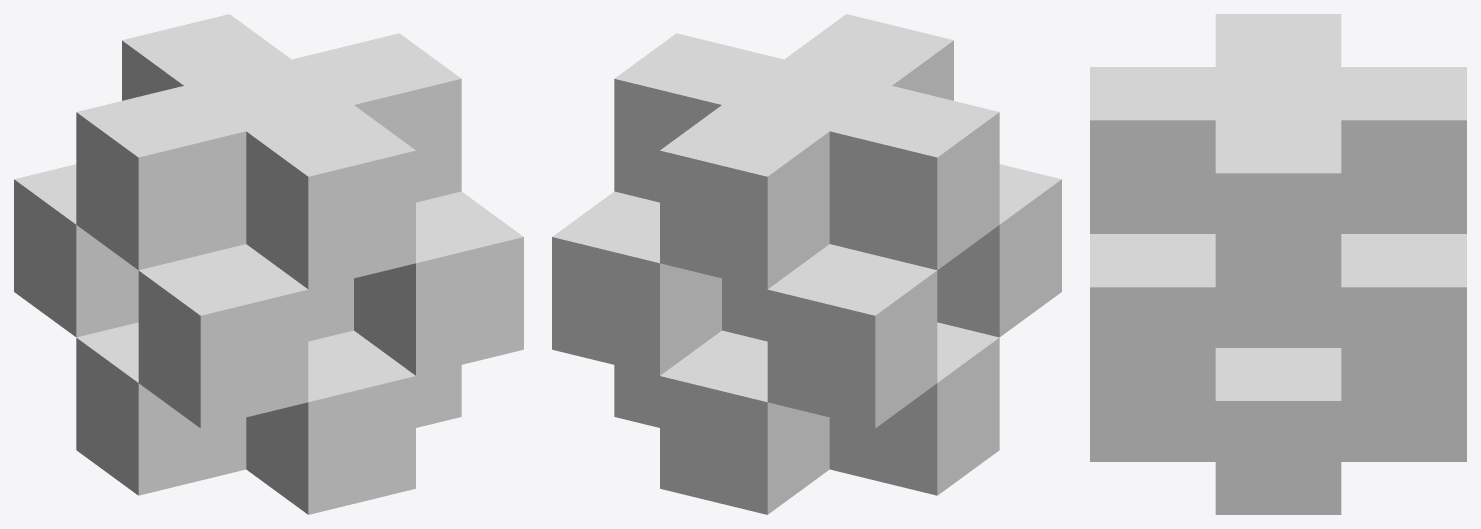
Rendered from WhiteRose.obj.
3 renders of one model, left to right at view 1: azimuth 30°, elevation 25°; view 2: azimuth 150°, elevation 25°; view 3: azimuth 270°, elevation 25°, orthographic.
Parts seen in each view (by area): view 1: WhiteRose; view 2: WhiteRose; view 3: WhiteRose.
Part boxes in pixels (box(x1,y1,x2,y2)): WhiteRose: box(14, 14, 523, 514); WhiteRose: box(552, 14, 1061, 514); WhiteRose: box(1090, 14, 1466, 514).
Size of the model in its own units: 3 by 3 by 3.
1 material, 1 textured.
